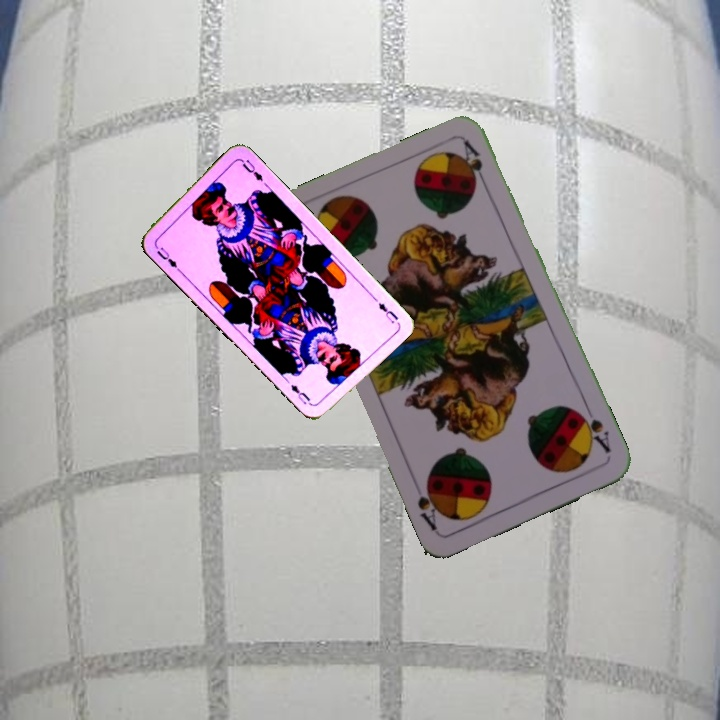EU: (151, 240, 182, 273), (374, 299, 401, 326)
SA: (573, 402, 614, 456)
